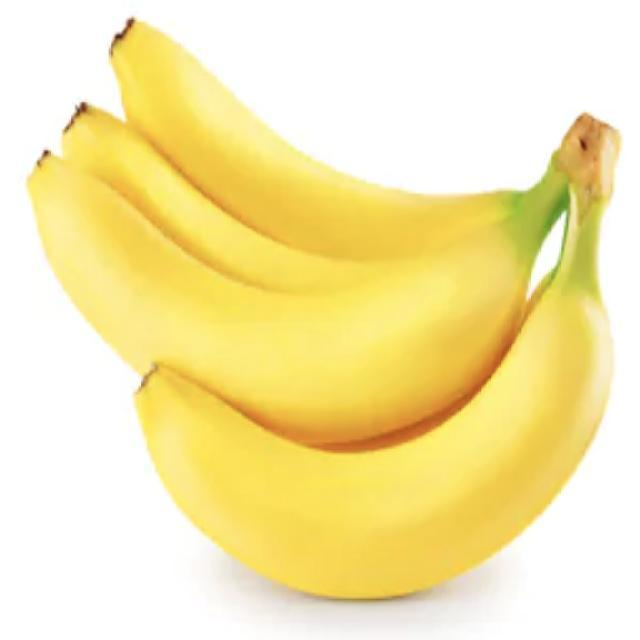Banana: (26, 15, 622, 601)
